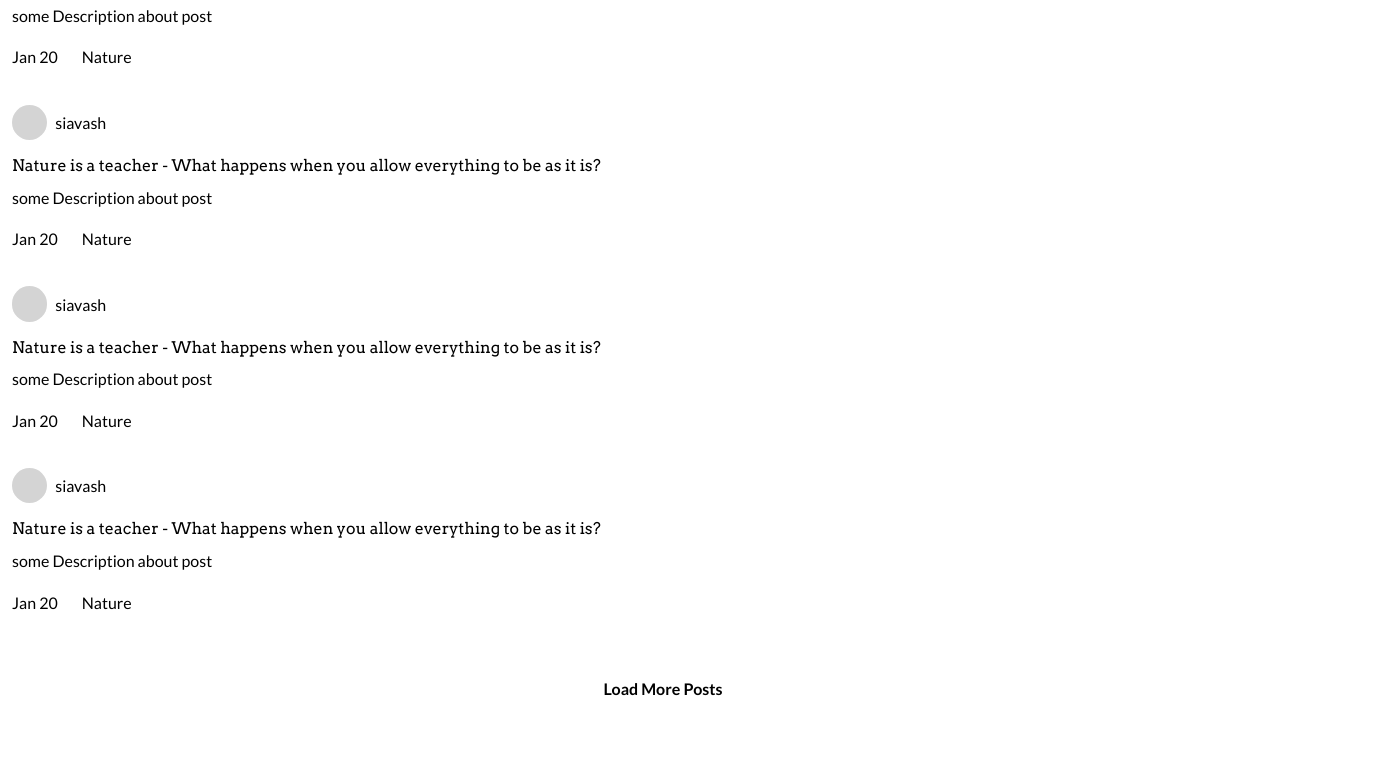
Test: Component Test : Post › if click on the load more button render 10 post
(page scrolled)
Click the button with test id "lazySearchPostHolderButton" at {"x": 663, "y": 688}, box [12, 672, 1314, 704]
(page scrolled)
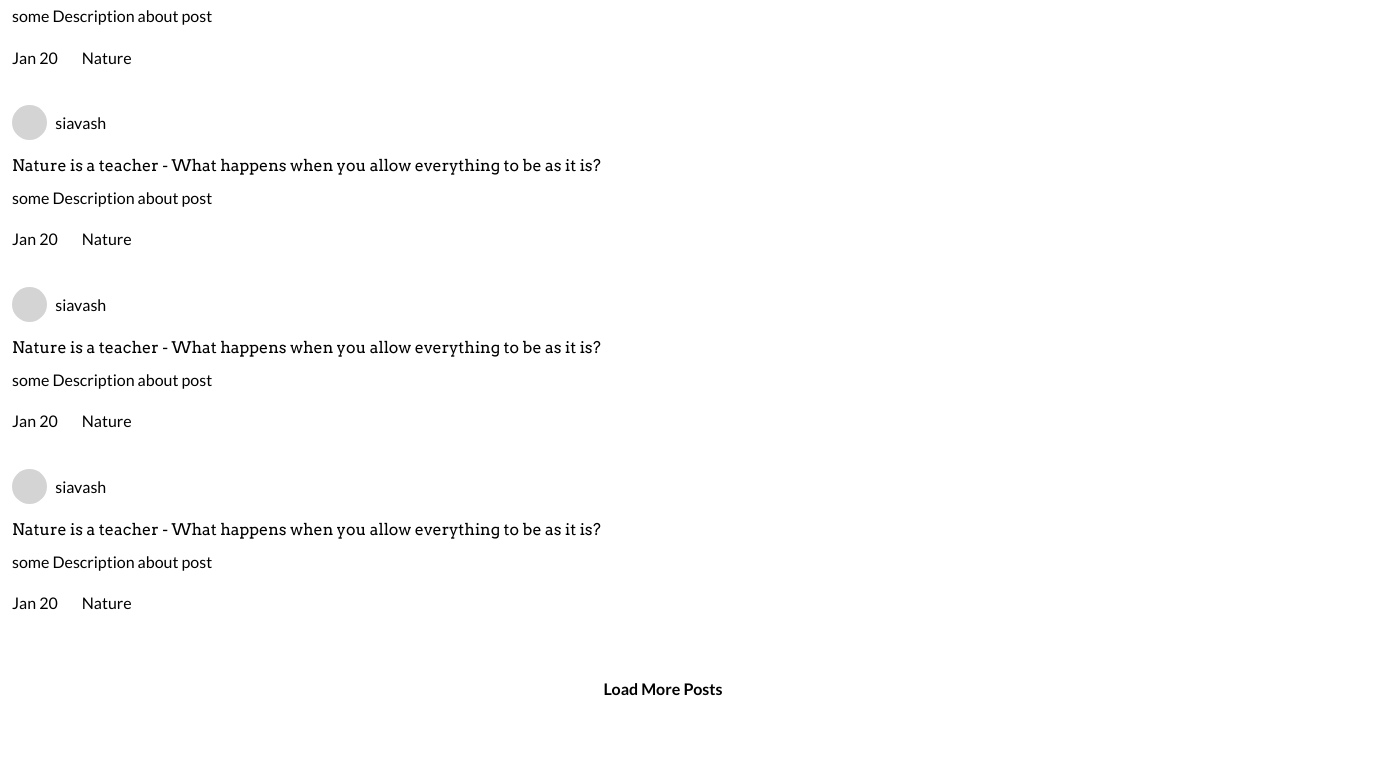
Click the button with test id "lazySearchPostHolderButton" at {"x": 663, "y": 689}, box [12, 673, 1314, 704]
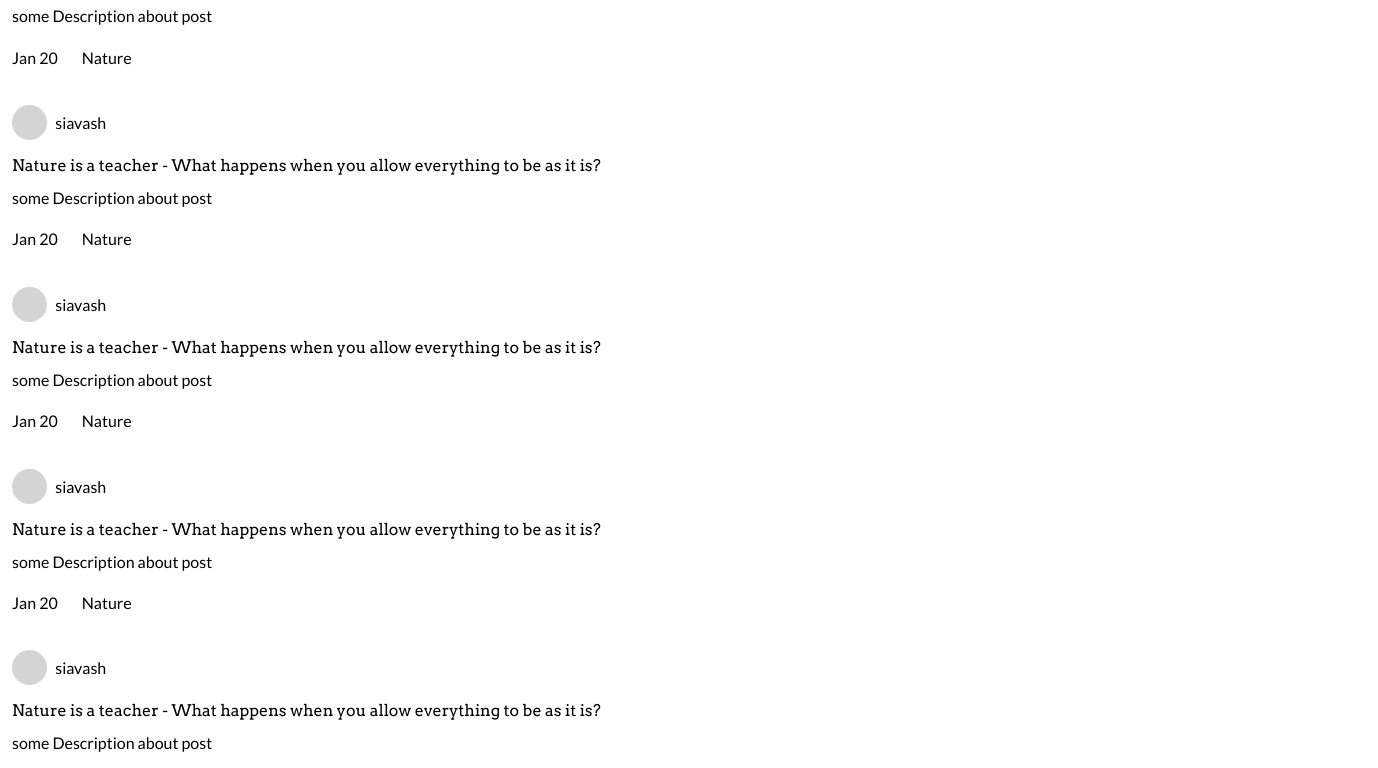
Now the button with test id "lazySearchPostHolderButton" is gone
